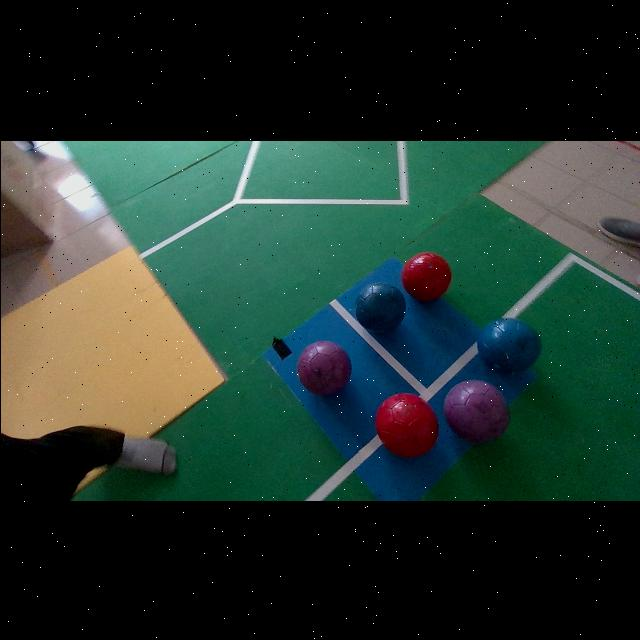B: (476, 317, 539, 370), (354, 283, 405, 331)
P: (442, 378, 509, 443), (296, 339, 350, 395)
R: (374, 392, 437, 456), (401, 251, 451, 301)
